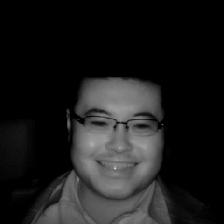happy: (52, 60, 175, 199)
